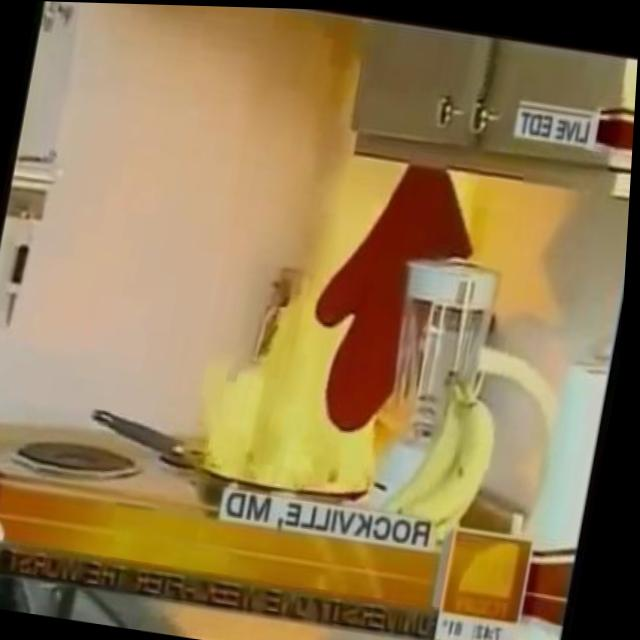fire: (193, 135, 449, 509)
